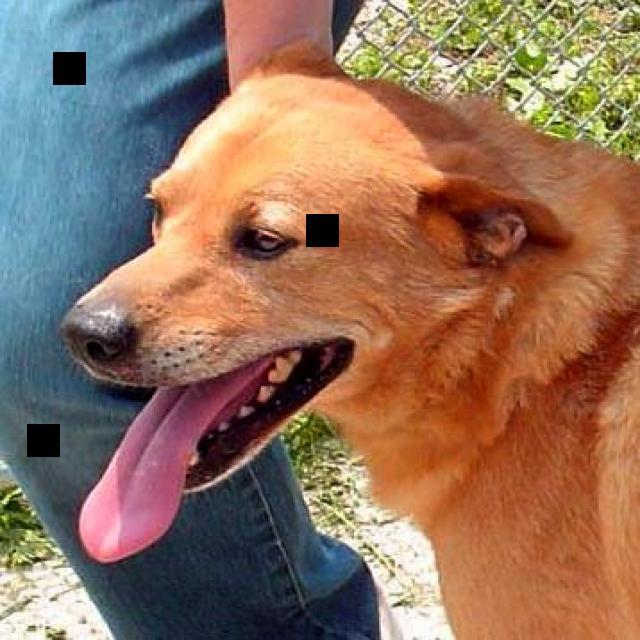adult_dog: (61, 62, 640, 630)
